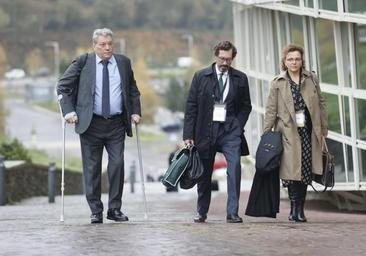crutches: (56, 20, 153, 224)
